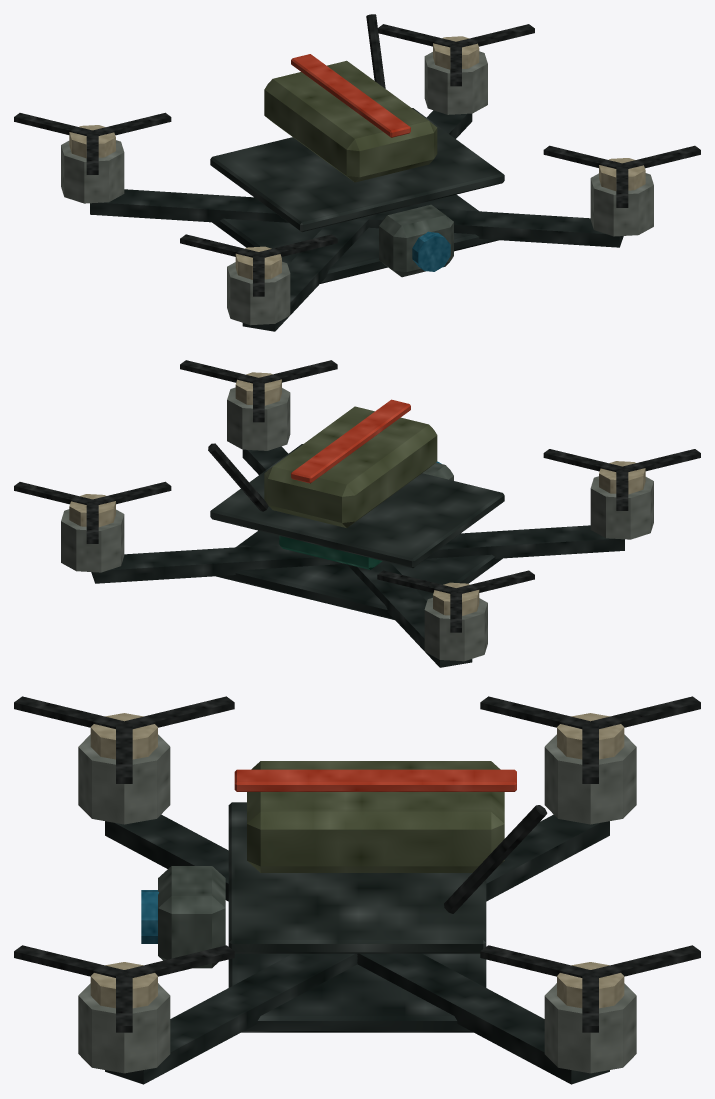
File: DR_ScoutComplete.fbx
3 views of the same model, one above another, from view 1: azimuth 30°, elevation 25°; view 2: azimuth 150°, elevation 25°; view 3: azimuth 270°, elevation 25° (orthographic). The views are drawn at different scales.
Parts seen in each view (by area): view 1: Complete.TopPlate, Complete.Battery, Complete.BottomPlate, Complete.Arm.1, Complete.Arm.2, Complete.CameraHousing, Complete.Arm.0, Complete.Motor.0, Complete.Motor.3, Complete.Motor.1, Complete.Motor.2, Complete.BatteryStrap (+19 smaller); view 2: Complete.TopPlate, Complete.Battery, Complete.BottomPlate, Complete.Arm.3, Complete.Arm.0, Complete.Motor.3, Complete.Motor.2, Complete.Motor.1, Complete.Motor.0, Complete.Arm.2, Complete.BatteryStrap, Complete.Electronics (+18 smaller); view 3: Complete.Battery, Complete.TopPlate, Complete.BottomPlate, Complete.Arm.1, Complete.Arm.3, Complete.BatteryStrap, Complete.CameraHousing, Complete.Motor.1, Complete.Motor.3, Complete.Motor.0, Complete.Motor.2, Complete.Arm.2 (+19 smaller).
Part boxes in pixels (left/top/right/bottom): Complete.TopPlate: left=210, top=108, right=504, bottom=231; Complete.Battery: left=264, top=60, right=437, bottom=182; Complete.BottomPlate: left=212, top=194, right=498, bottom=283; Complete.Arm.1: left=358, top=207, right=623, bottom=247; Complete.Arm.2: left=90, top=189, right=288, bottom=222; Complete.CameraHousing: left=379, top=204, right=453, bottom=277; Complete.Arm.0: left=242, top=218, right=368, bottom=331; Complete.Motor.0: left=227, top=261, right=290, bottom=325; Complete.Motor.3: left=424, top=51, right=487, bottom=114; Complete.Motor.1: left=590, top=173, right=653, bottom=236; Complete.Motor.2: left=61, top=140, right=124, bottom=203; Complete.BatteryStrap: left=291, top=54, right=410, bottom=137; Complete.TopPlate: left=210, top=444, right=504, bottom=568; Complete.Battery: left=264, top=406, right=437, bottom=527; Complete.BottomPlate: left=216, top=530, right=502, bottom=619; Complete.Arm.3: left=91, top=544, right=344, bottom=583; Complete.Arm.0: left=426, top=525, right=624, bottom=558; Complete.Motor.3: left=61, top=509, right=124, bottom=572; Complete.Motor.2: left=424, top=598, right=487, bottom=661; Complete.Motor.1: left=227, top=387, right=290, bottom=450; Complete.Motor.0: left=590, top=476, right=653, bottom=539; Complete.Arm.2: left=347, top=561, right=472, bottom=667; Complete.BatteryStrap: left=291, top=399, right=410, bottom=483; Complete.Electronics: left=279, top=536, right=382, bottom=569; Complete.Battery: left=247, top=761, right=504, bottom=872; Complete.TopPlate: left=228, top=802, right=486, bottom=953; Complete.BottomPlate: left=228, top=953, right=486, bottom=1032; Complete.Arm.1: left=105, top=953, right=357, bottom=1084; Complete.Arm.3: left=357, top=953, right=609, bottom=1084; Complete.BatteryStrap: left=234, top=769, right=516, bottom=791; Complete.CameraHousing: left=158, top=866, right=225, bottom=968; Complete.Motor.1: left=78, top=983, right=170, bottom=1073; Complete.Motor.3: left=544, top=983, right=636, bottom=1073; Complete.Motor.0: left=78, top=734, right=170, bottom=824; Complete.Motor.2: left=544, top=734, right=636, bottom=824; Complete.Arm.2: left=486, top=814, right=609, bottom=901.
Size of the model in its own units: 1.27 by 0.3824 by 1.12.
Materials: 3 (3 with a texture image).
